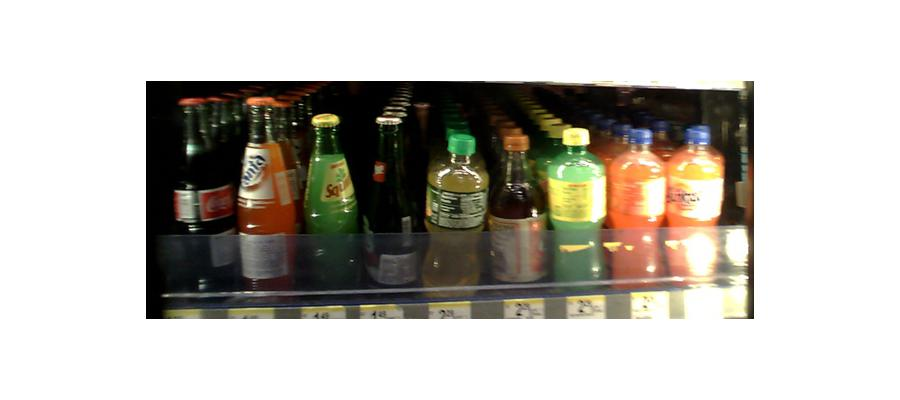bottle: (170, 93, 236, 297), (238, 97, 300, 300), (362, 99, 419, 297), (549, 122, 608, 287), (302, 108, 354, 294), (423, 132, 485, 285), (490, 129, 546, 287), (610, 123, 664, 283), (668, 123, 721, 283)
